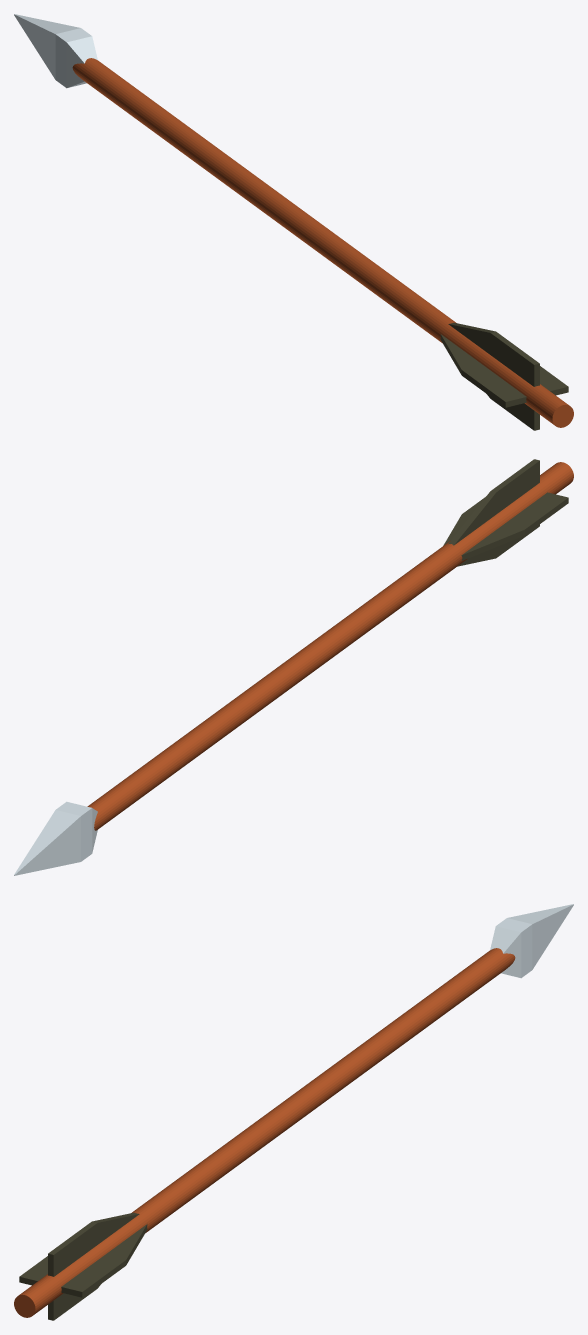
File: arrow.fbx
The picture shows the model from 3 angles, top to bottom: view 1: azimuth 30°, elevation 25°; view 2: azimuth 150°, elevation 25°; view 3: azimuth 330°, elevation 25°; orthographic projection.
Parts seen in each view (by area): view 1: Cylinder, Cube, Cube.001, Cube.002; view 2: Cylinder, Cube, Cube.001, Cube.002; view 3: Cylinder, Cube, Cube.001, Cube.002.
Part boxes in pixels (x1=…): Cylinder: x1=72, y1=58, x2=573, y2=427; Cube: x1=14, y1=14, x2=97, y2=88; Cube.001: x1=448, y1=322, x2=539, y2=430; Cube.002: x1=440, y1=334, x2=568, y2=407; Cylinder: x1=87, y1=462, x2=573, y2=830; Cube: x1=14, y1=801, x2=97, y2=875; Cube.001: x1=448, y1=459, x2=539, y2=566; Cube.002: x1=443, y1=492, x2=568, y2=560; Cylinder: x1=14, y1=948, x2=515, y2=1317; Cube: x1=490, y1=904, x2=573, y2=978; Cube.001: x1=48, y1=1212, x2=139, y2=1320; Cube.002: x1=19, y1=1224, x2=147, y2=1297.
Bounding box in the file's own units: 29.23 × 442 × 29.23.
